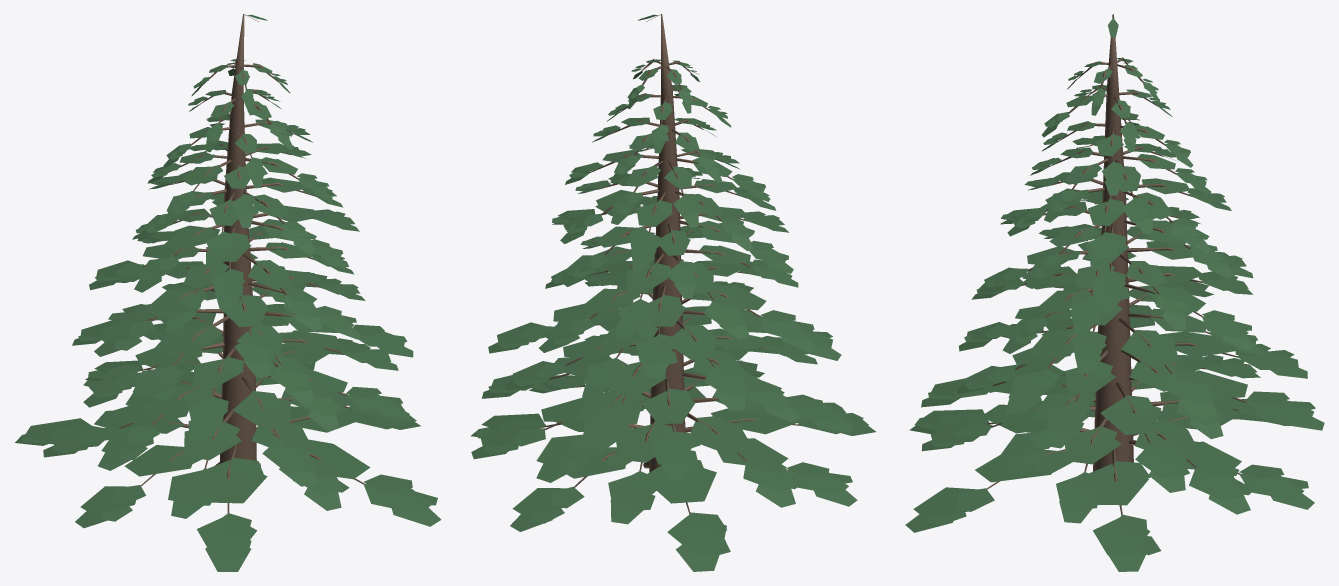
Rendered from hemlock-full.glb.
3 renders of one model, left to right at view 1: azimuth 30°, elevation 25°; view 2: azimuth 150°, elevation 25°; view 3: azimuth 270°, elevation 25°, orthographic. The views are drawn at different scales.
Visible parts, largest first — view 1: tree_hemlock-full_LOD0; view 2: tree_hemlock-full_LOD0; view 3: tree_hemlock-full_LOD0.
Part boxes in pixels (left/top/right/bottom): tree_hemlock-full_LOD0: left=15, top=14, right=441, bottom=571; tree_hemlock-full_LOD0: left=470, top=14, right=875, bottom=571; tree_hemlock-full_LOD0: left=905, top=14, right=1324, bottom=571.
Bounding box in the file's own units: 11.48 × 14.04 × 11.39.
